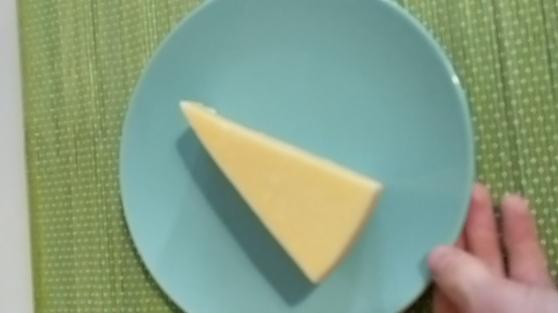cheese: (174, 95, 387, 294)
